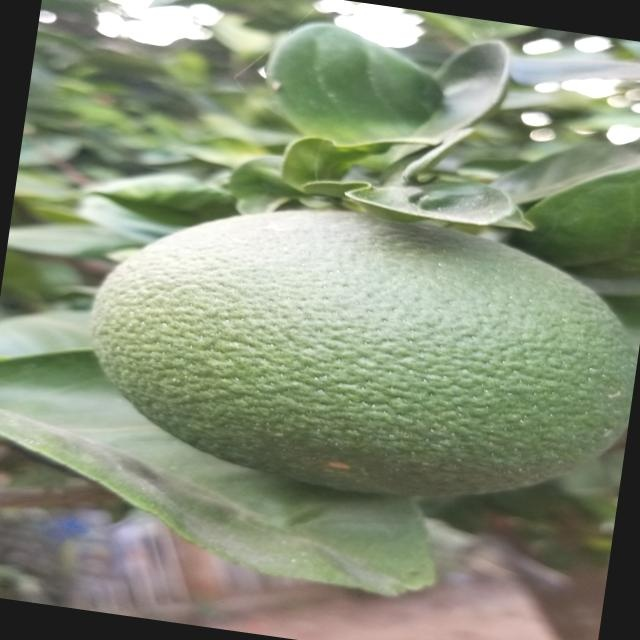agrume: (57, 172, 640, 532)
